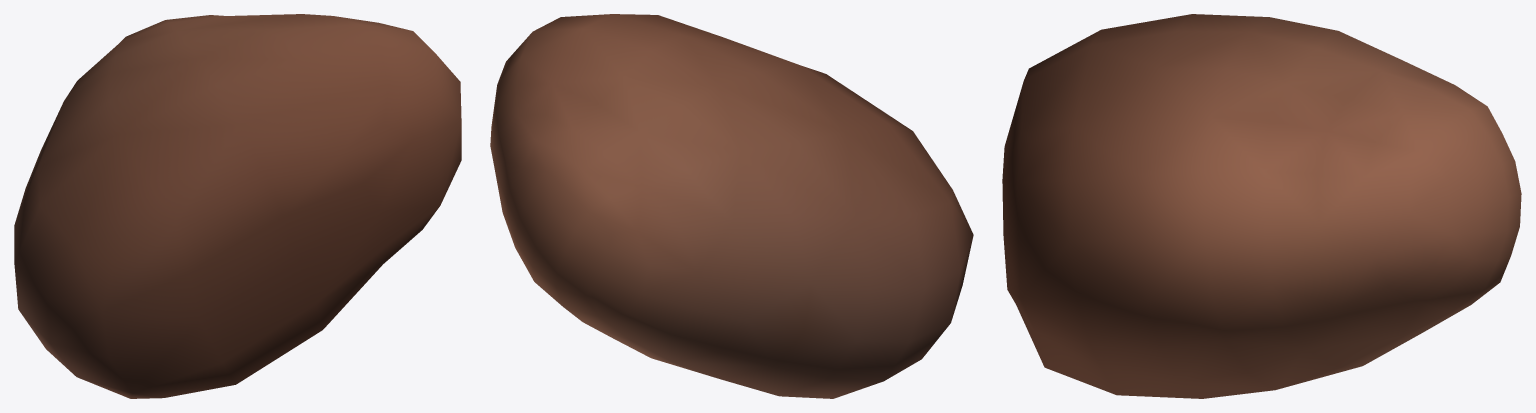
File: microscopic-pollen-spores-spore_v1.glb
3 renders of one model, left to right at view 1: azimuth 30°, elevation 25°; view 2: azimuth 150°, elevation 25°; view 3: azimuth 270°, elevation 25°, orthographic. The views are drawn at different scales.
Parts seen in each view (by area): view 1: Spore; view 2: Spore; view 3: Spore.
Boxes of the visible parts, x1,y1,x2,y2 form: Spore: (14, 14, 461, 398); Spore: (490, 14, 973, 398); Spore: (1002, 14, 1521, 398).
Bounding box in the file's own units: 0.1 × 0.0667 × 0.0803.
